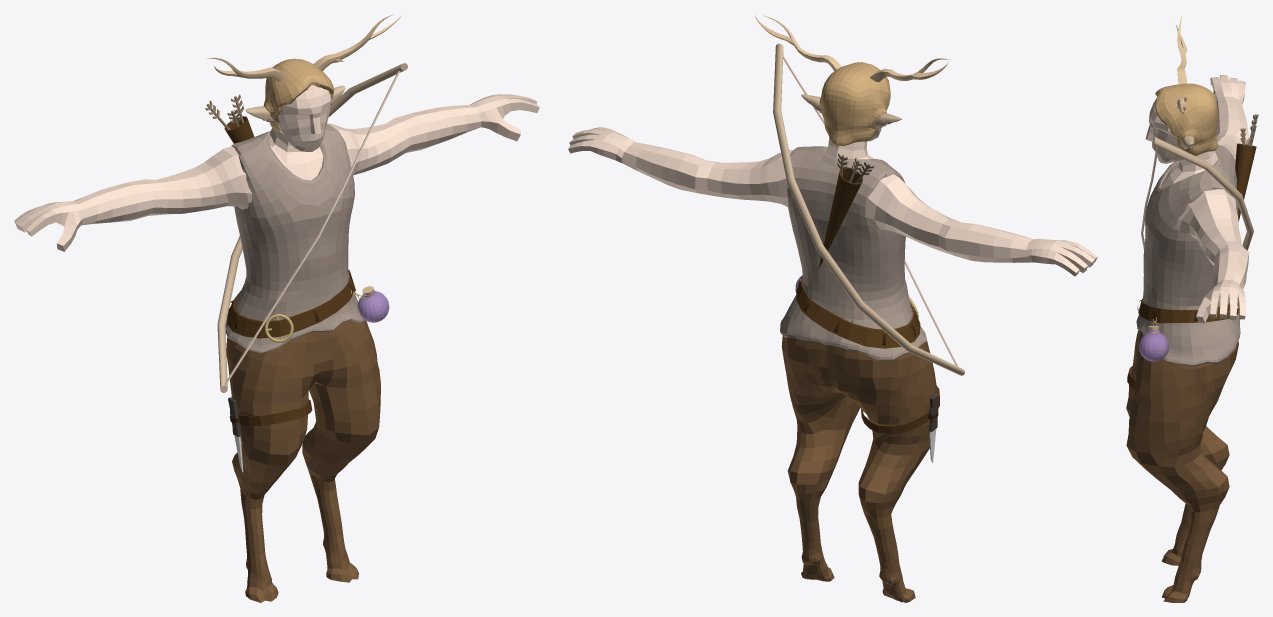
File: Hunter.fbx
3 renders of one model, left to right at view 1: azimuth 30°, elevation 25°; view 2: azimuth 150°, elevation 25°; view 3: azimuth 270°, elevation 25°, orthographic. The views are drawn at different scales.
Parts seen in each view (by area): view 1: pCylinder2; view 2: pCylinder2; view 3: pCylinder2.
Part boxes in pixels (x1,y1,x2,y2): pCylinder2: (14, 14, 539, 602); pCylinder2: (568, 15, 1097, 602); pCylinder2: (1126, 16, 1258, 602).
Size of the model in its own units: 6.02 by 6.13 by 1.41.
